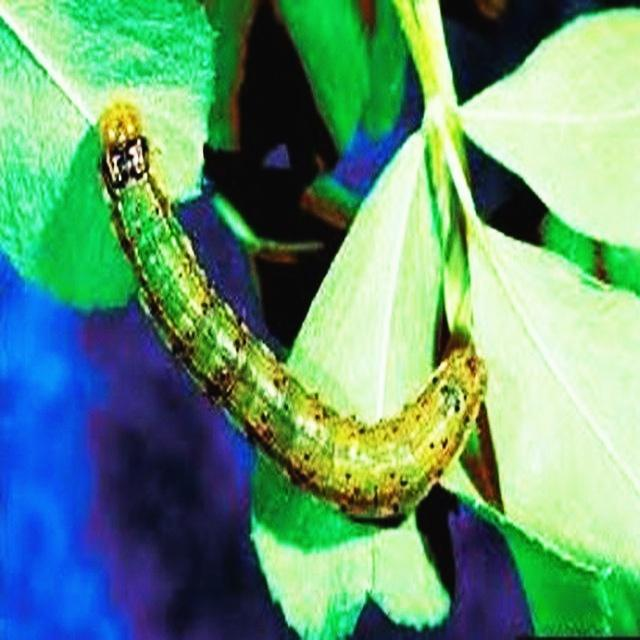Plaga: (97, 94, 489, 521)
